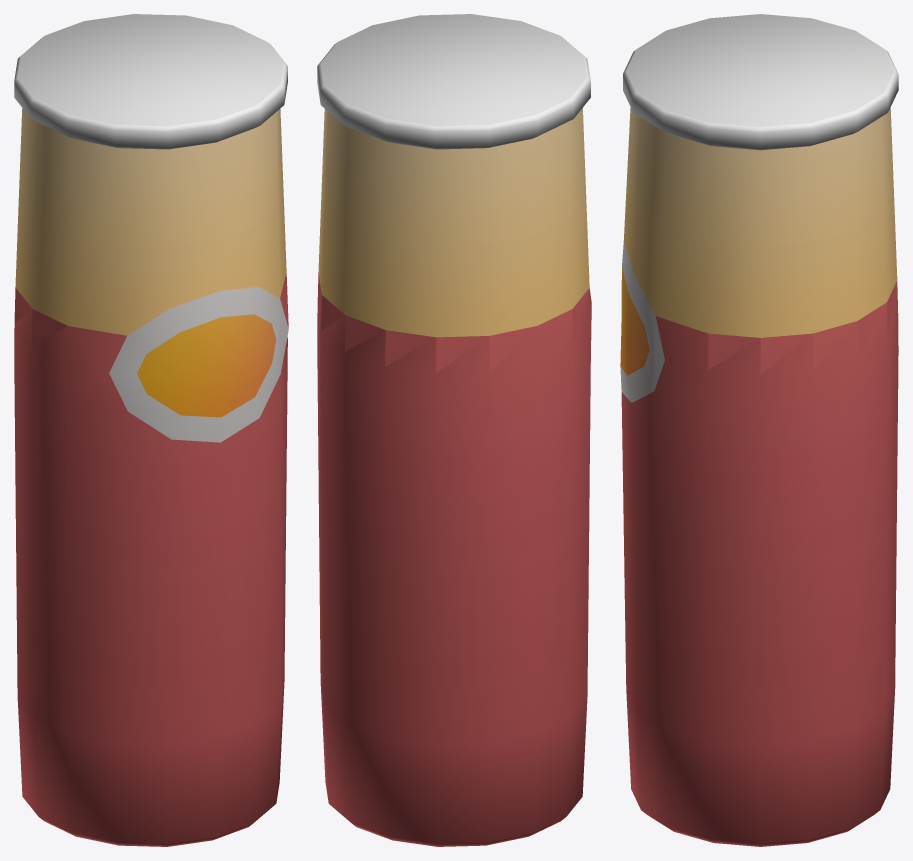
3 views of the same model, side by side, from view 1: azimuth 30°, elevation 25°; view 2: azimuth 150°, elevation 25°; view 3: azimuth 270°, elevation 25° (orthographic).
Visible parts, largest first — view 1: 3-1; view 2: 3-1; view 3: 3-1.
Part boxes in pixels (<box>): 3-1: <box>14,14,288,846</box>; 3-1: <box>317,14,591,846</box>; 3-1: <box>620,14,898,846</box>.
Size of the model in its own units: 8.15 by 23.63 by 8.22.
